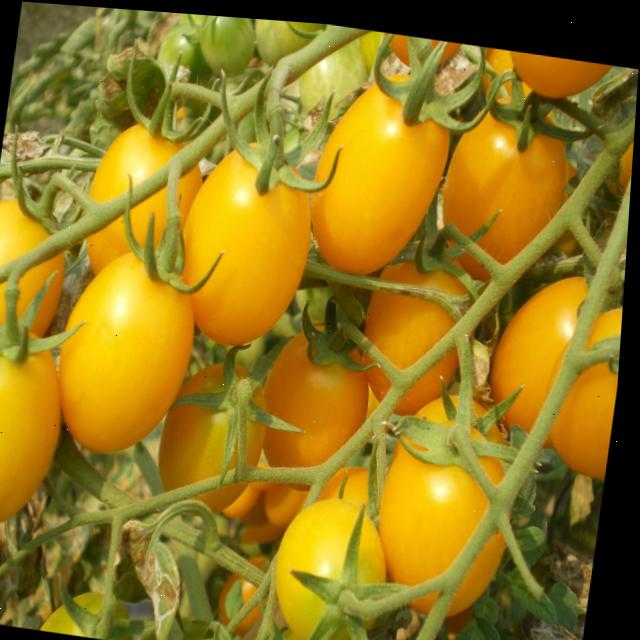fine: (376, 397, 532, 624), (58, 229, 207, 460), (177, 123, 326, 353), (301, 63, 459, 277), (434, 87, 582, 284), (493, 253, 625, 432), (260, 310, 385, 493), (267, 486, 409, 640), (83, 109, 211, 278), (363, 244, 489, 404), (159, 349, 281, 509), (0, 318, 75, 538), (544, 286, 627, 476), (0, 184, 77, 343)
unripe: (290, 26, 372, 130), (189, 11, 258, 74), (151, 20, 202, 80)
